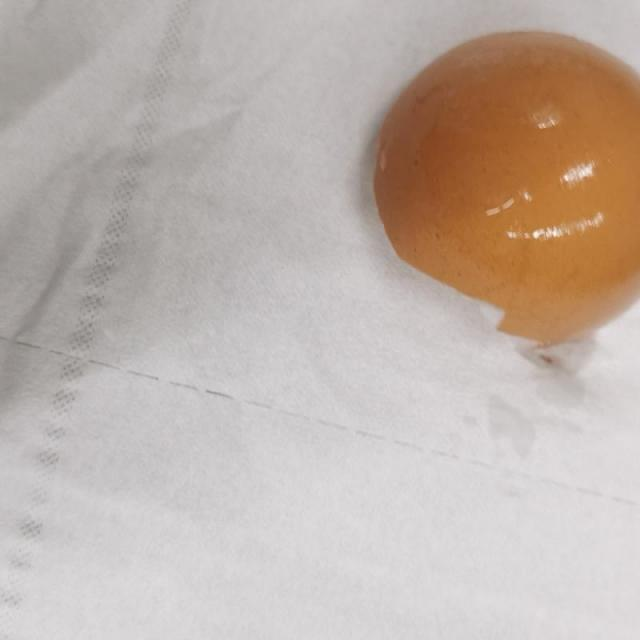egg shell: (374, 25, 640, 346)
